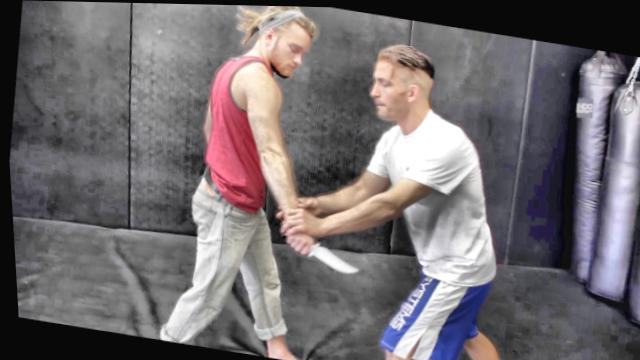knife: (271, 228, 363, 280)
